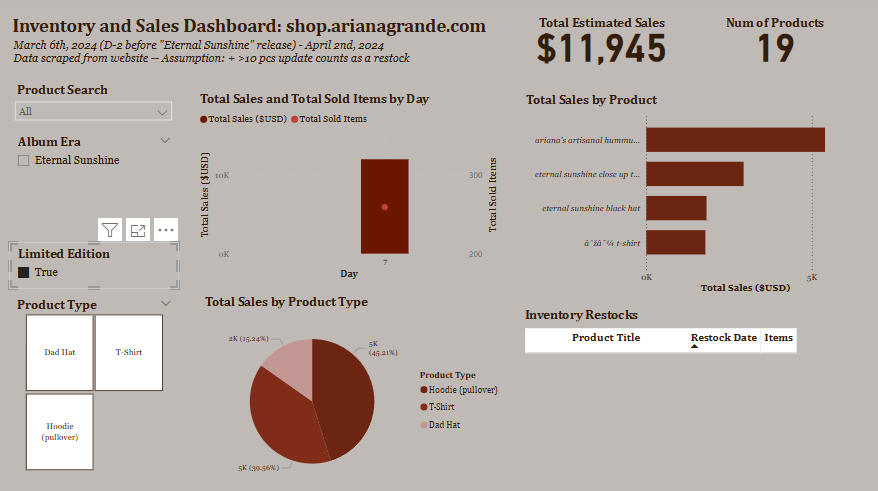

The page's visual inventory and layout, read from the dashboard file:
{"tool":"powerbi","page":{"name":"Dashboard","canvas":[1280,720],"ordinal":0},"visuals":[{"type":"slicer","title":"Album ","fields":{"Values":["ariana_grande_inventory01_13.album_era"]},"box":[22.7,191.3,244.5,160.9],"z":0},{"type":"textbox","box":[23.4,20,705.7,44.3],"z":1000},{"type":"textbox","box":[24,54,706,50],"z":2000},{"type":"lineClusteredColumnComboChart","title":"Total Sales and Total Sold Items by Day","fields":{"Y":["Sum(ariana_grande_inventory01_13.estimated_total_sales)"],"Y2":["Sum(ariana_grande_inventory01_13.sold_items)"],"Category":["ariana_grande_inventory01_13.data_pulled_at.Variation.Date Hierarchy.Day"]},"box":[292.9,133.7,442,278],"z":3000},{"type":"barChart","title":"Total Sales by Product","fields":{"Category":["ariana_grande_inventory01_13.product_title"],"Y":["Sum(ariana_grande_inventory01_13.estimated_total_sales)"]},"box":[762,136,478,296],"z":4000},{"type":"slicer","fields":{"Values":["ariana_grande_inventory01_13.product_title"]},"box":[21.4,116.9,245.7,75.7],"z":5000},{"type":"slicer","title":"Product Type","fields":{"Values":["ariana_grande_inventory01_13.product_type"]},"box":[21.8,426.7,246.9,262],"z":6000},{"type":"pieChart","title":"Total Sales by Product Type","fields":{"Category":["ariana_grande_inventory01_13.product_type"],"Y":["Sum(ariana_grande_inventory01_13.estimated_total_sales)"]},"box":[298.9,425.7,442,290],"z":7000},{"type":"card","title":"Total Estimated Sales","fields":{"Values":["Sum(ariana_grande_inventory01_13.estimated_total_sales)"]},"box":[751.4,10,250,107.1],"z":8000},{"type":"card","title":"Num of Products","fields":{"Values":["Count(ariana_grande_inventory01_13.variant_sku)"]},"box":[1001.4,10,250,107.1],"z":9000},{"type":"tableEx","title":"Inventory Restocks","fields":{"Values":["ariana_grande_inventory01_13.product_title","ariana_grande_inventory01_13.Data Pulled at","ariana_grande_inventory01_13.quantity_diff"]},"box":[760.9,445.1,478.7,231.8],"z":10000},{"type":"slicer","fields":{"Values":["ariana_grande_inventory01_13.is_limited_edition"]},"box":[23.6,352.2,243.6,68.2],"z":11000}]}

Visuals, with their boxes in screenshot pixels (x1, y1, x2, y2), scaled from the page's 1280x720 canvas onto the 878x491 screenshot:
"Album " slicer: box(16, 130, 183, 240)
textbox: box(16, 14, 500, 44)
textbox: box(16, 37, 501, 71)
"Total Sales and Total Sold Items by Day" lineClusteredColumnComboChart: box(201, 91, 504, 281)
"Total Sales by Product" barChart: box(523, 93, 851, 295)
slicer - ariana_grande_inventory01_13.product_title: box(15, 80, 183, 131)
"Product Type" slicer: box(15, 291, 184, 470)
"Total Sales by Product Type" pieChart: box(205, 290, 508, 488)
"Total Estimated Sales" card: box(515, 7, 687, 80)
"Num of Products" card: box(687, 7, 858, 80)
"Inventory Restocks" tableEx: box(522, 304, 850, 462)
slicer - ariana_grande_inventory01_13.is_limited_edition: box(16, 240, 183, 287)
